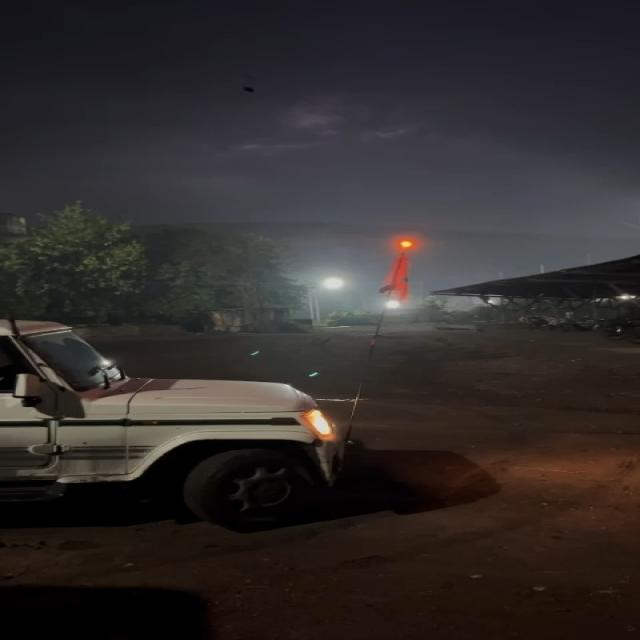light_vehicle: (0, 317, 326, 530)
